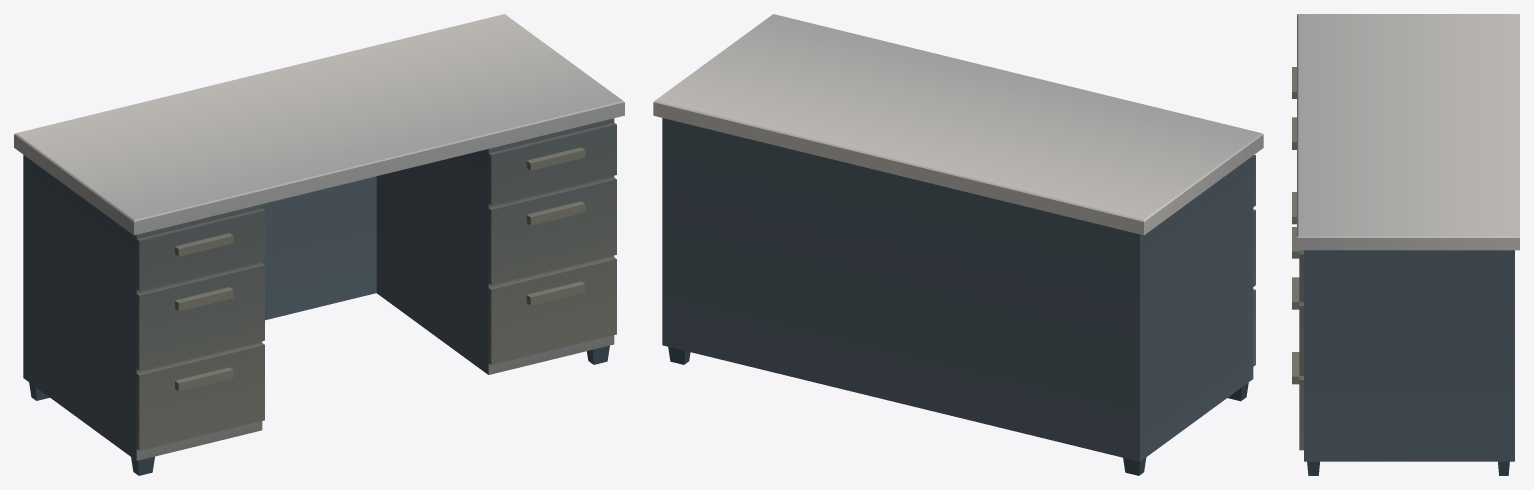
Rendered from desk04.glb.
3 views of the same model, side by side, from view 1: azimuth 30°, elevation 25°; view 2: azimuth 150°, elevation 25°; view 3: azimuth 270°, elevation 25° (orthographic). The views are drawn at different scales.
Parts seen in each view (by area): view 1: desk04; view 2: desk04; view 3: desk04.
Part boxes in pixels (<box>): desk04: <box>14,14,624,475</box>; desk04: <box>653,14,1263,475</box>; desk04: <box>1292,14,1519,475</box>.
Bounding box in the file's own units: 1.89 × 0.9678 × 0.8178.
1 material, 1 textured.
